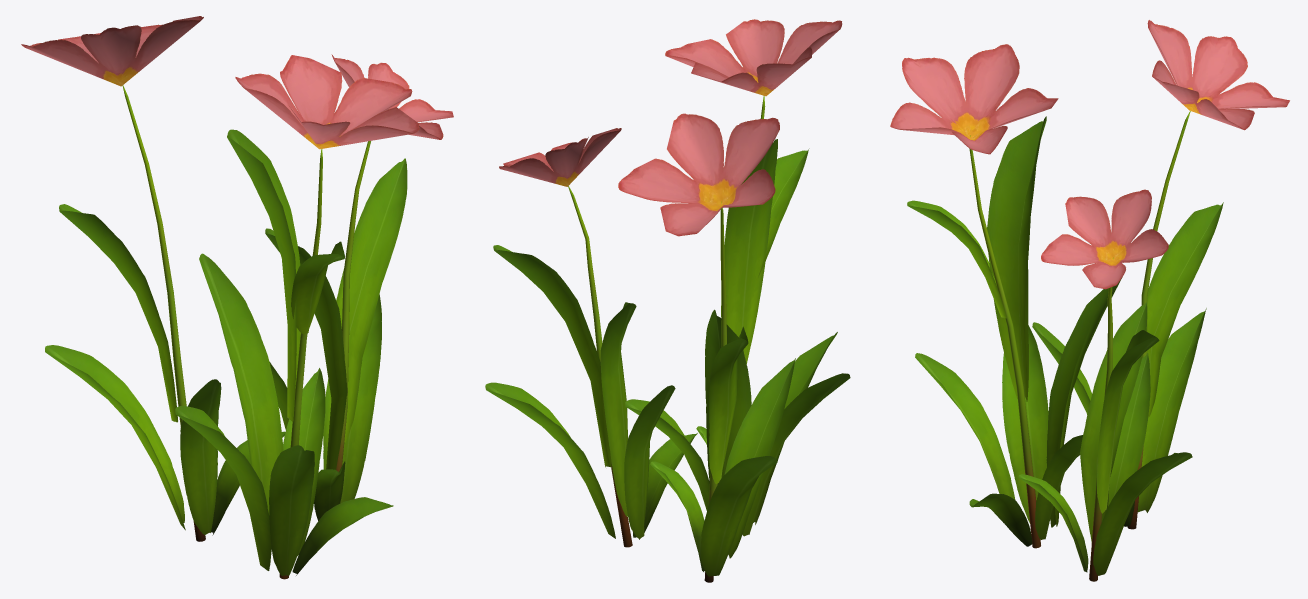
File: flower_3.glb
3 renders of one model, left to right at view 1: azimuth 30°, elevation 25°; view 2: azimuth 150°, elevation 25°; view 3: azimuth 270°, elevation 25°, orthographic. The views are drawn at different scales.
Parts seen in each view (by area): view 1: Flower_3_Group; view 2: Flower_3_Group; view 3: Flower_3_Group.
Boxes of the visible parts, bbox=[...] form: Flower_3_Group: bbox=[21, 16, 453, 579]; Flower_3_Group: bbox=[485, 19, 850, 582]; Flower_3_Group: bbox=[890, 20, 1289, 581].
Size of the model in its own units: 1.49 by 2.05 by 1.59.
Materials: 2 (2 with a texture image).
